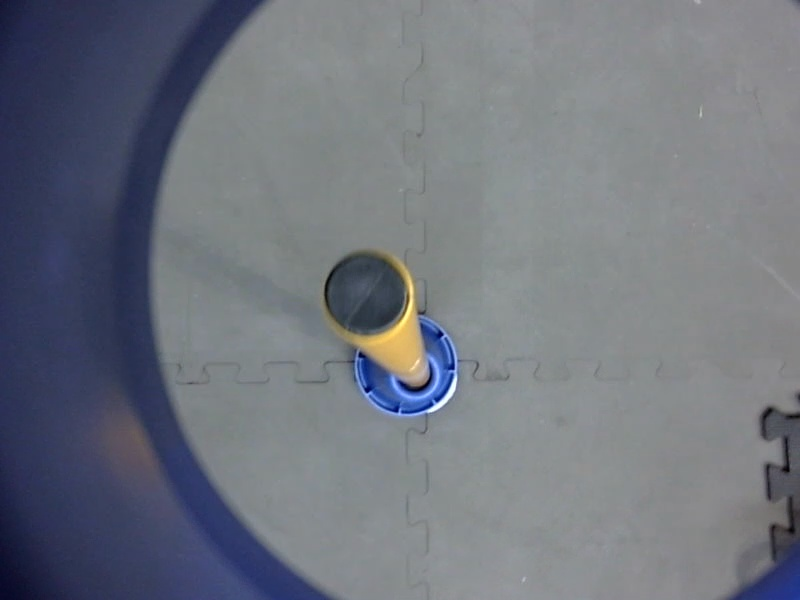tip: (316, 242, 421, 345)
